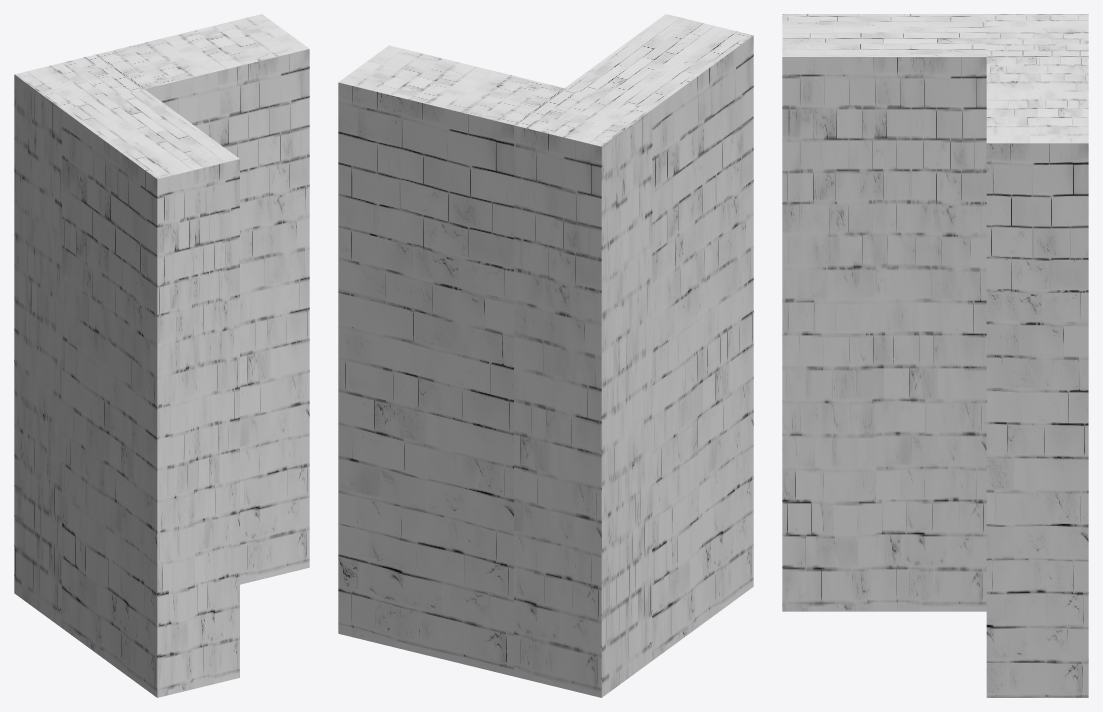
Rendered from wall_corner.fbx.
3 views of the same model, side by side, from view 1: azimuth 30°, elevation 25°; view 2: azimuth 150°, elevation 25°; view 3: azimuth 270°, elevation 25° (orthographic). The views are drawn at different scales.
Visible parts, largest first — view 1: mesh_WallBrickCorner; view 2: mesh_WallBrickCorner; view 3: mesh_WallBrickCorner.
Boxes of the visible parts, x1=… form: mesh_WallBrickCorner: x1=14, y1=14, x2=309, y2=697; mesh_WallBrickCorner: x1=338, y1=14, x2=753, y2=697; mesh_WallBrickCorner: x1=782, y1=14, x2=1088, y2=697.
Bounding box in the file's own units: 1.5 × 3 × 1.5.
Materials: 1 (1 with a texture image).
